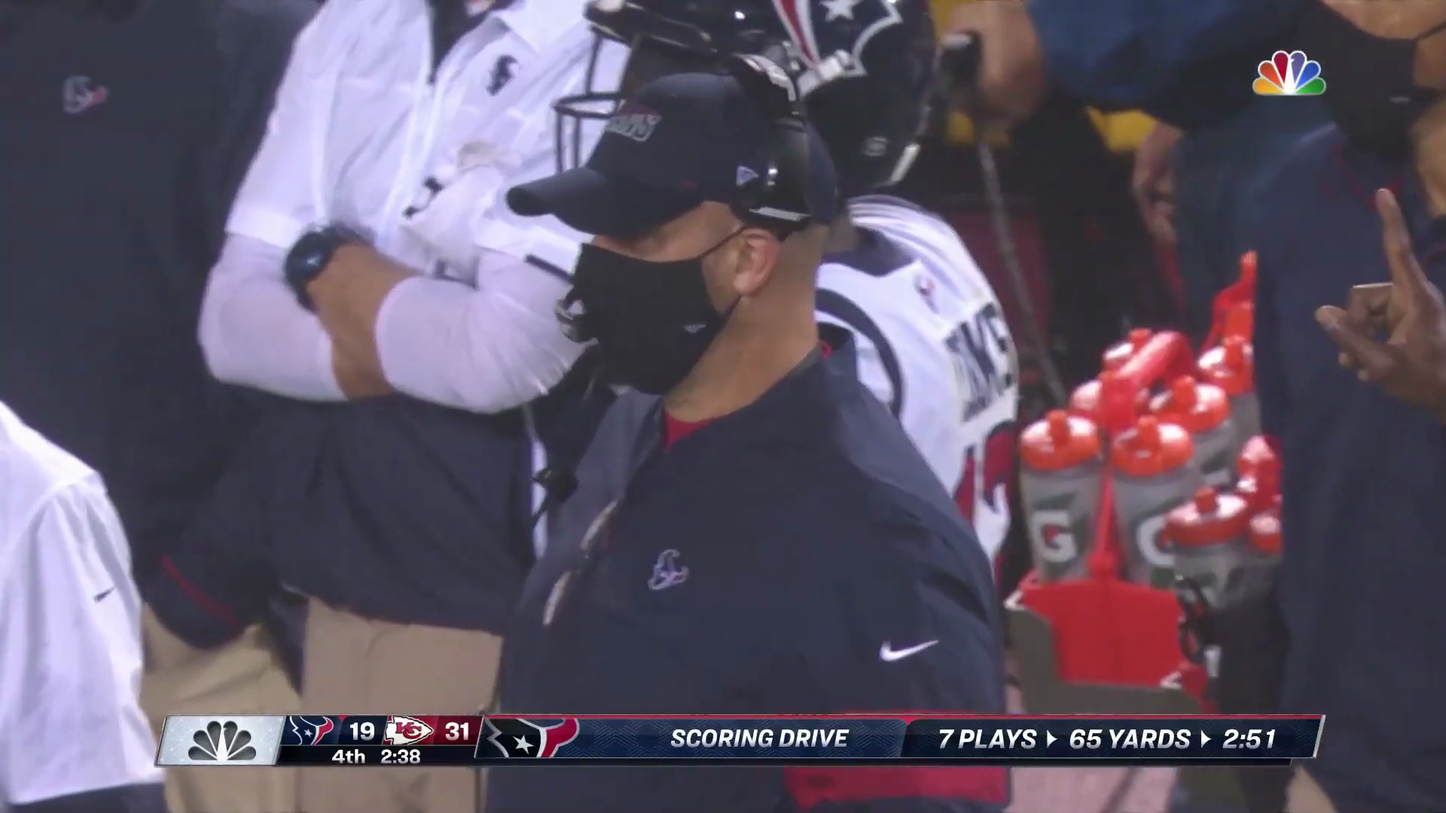Player: (811, 231, 1018, 689)
